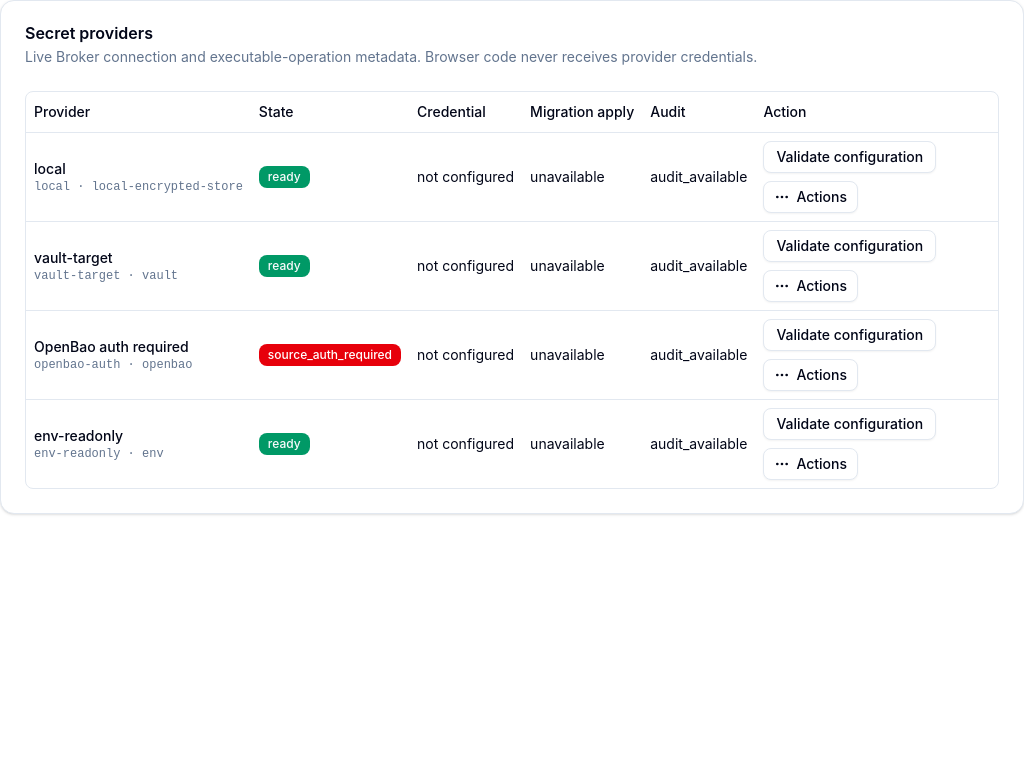
Secrets Broker provider row actions › shows live pending then success on the clicked ready provider row
Click the 2nd button "Actions": (811, 286) [763, 270, 858, 302]
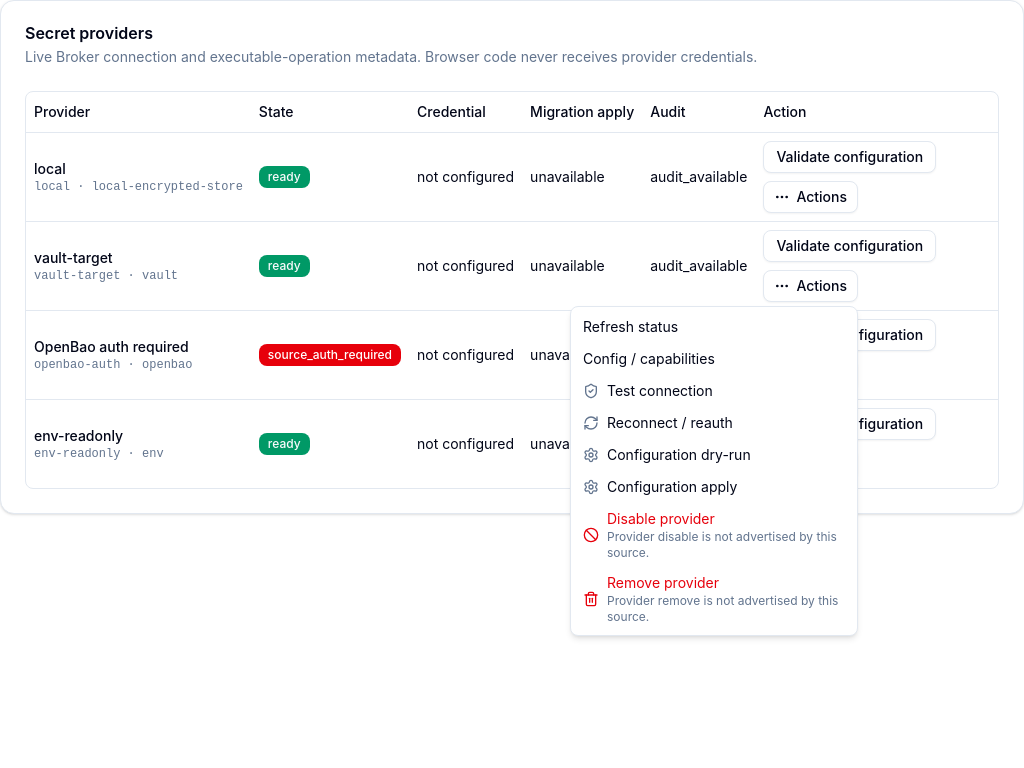
Click the menu item "Test connection": (648, 390) [583, 382, 713, 399]
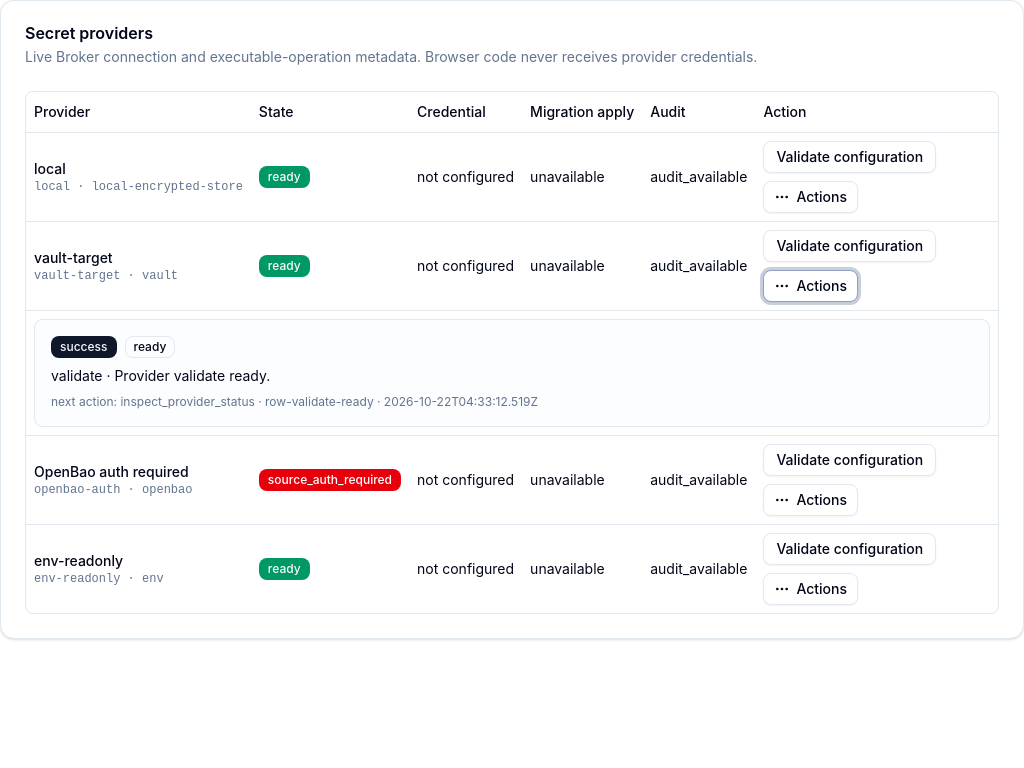
Expected: the element with test id "provider-action-result-vault-target" shows "success", [60, 338, 108, 354]
Expected: the element with test id "provider-action-result-vault-target" shows "ready", [134, 338, 166, 354]
Expected: the element with test id "provider-action-result-vault-target" shows "validate", [51, 366, 102, 384]
